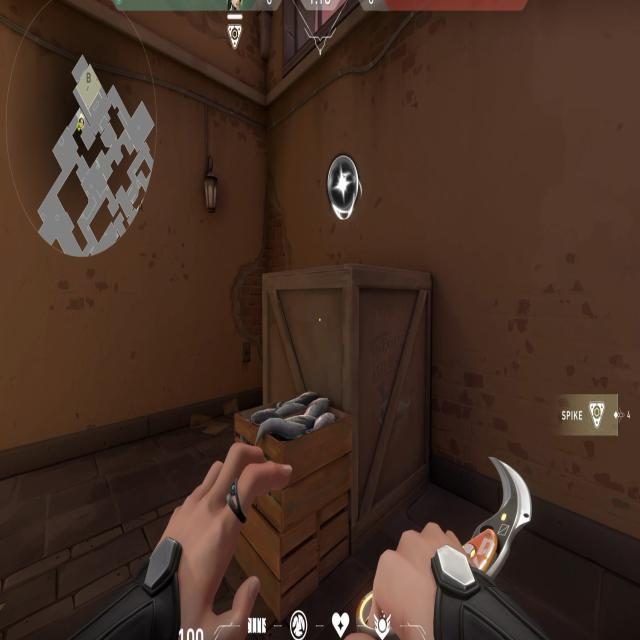B_Main_Wallbang: (231, 152, 449, 627)
